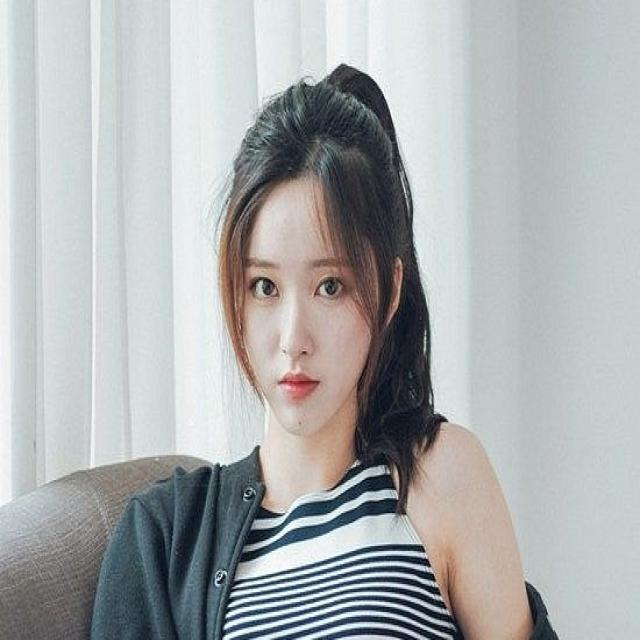Nonhelmet: (210, 59, 449, 513)
